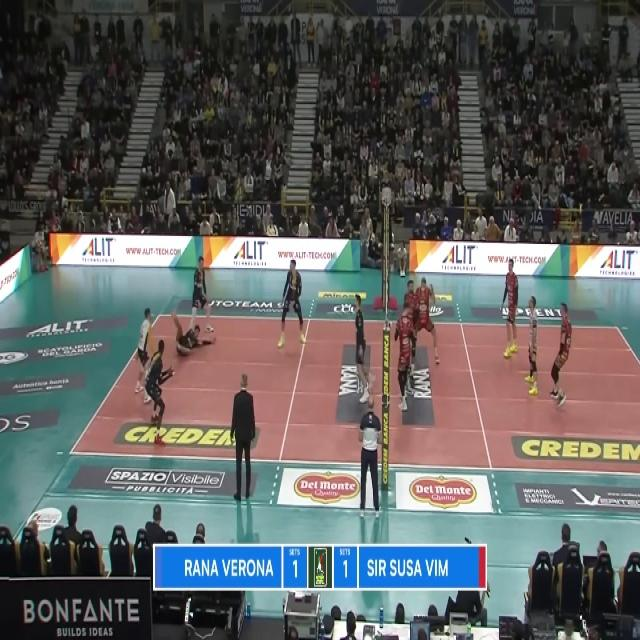volleyball court: (68, 311, 639, 472)
